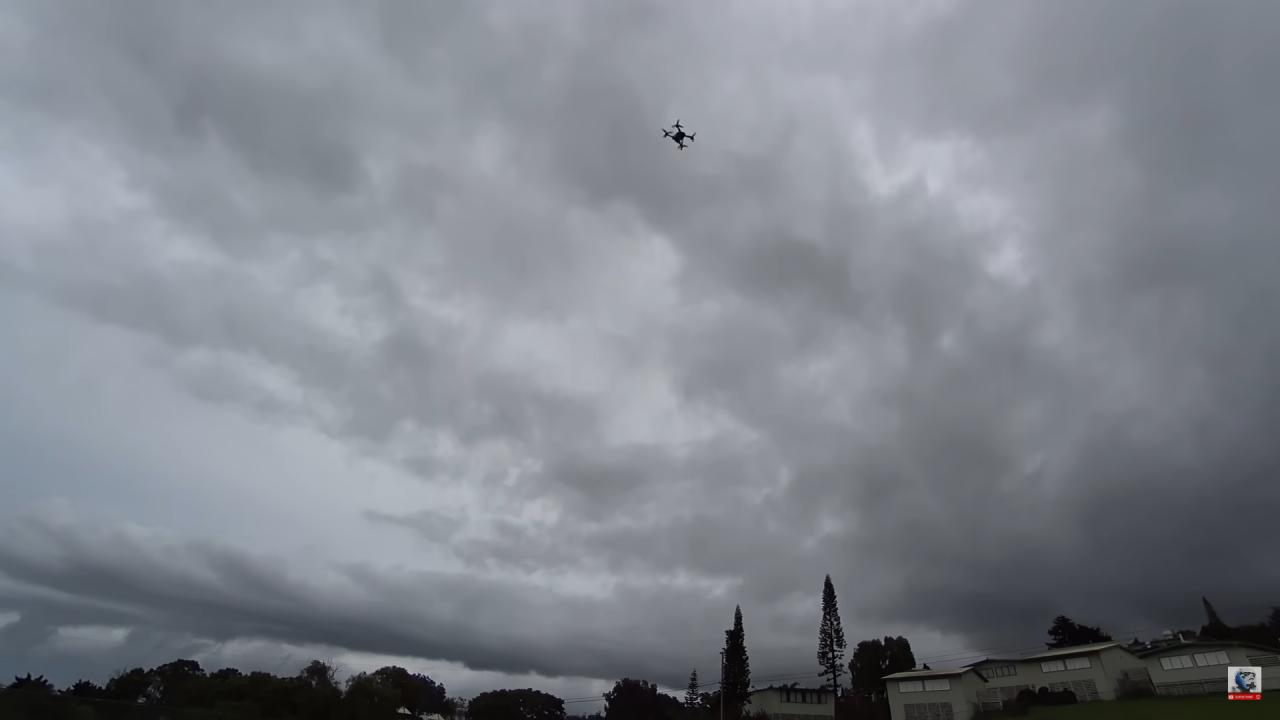Drone: (646, 107, 710, 162)
